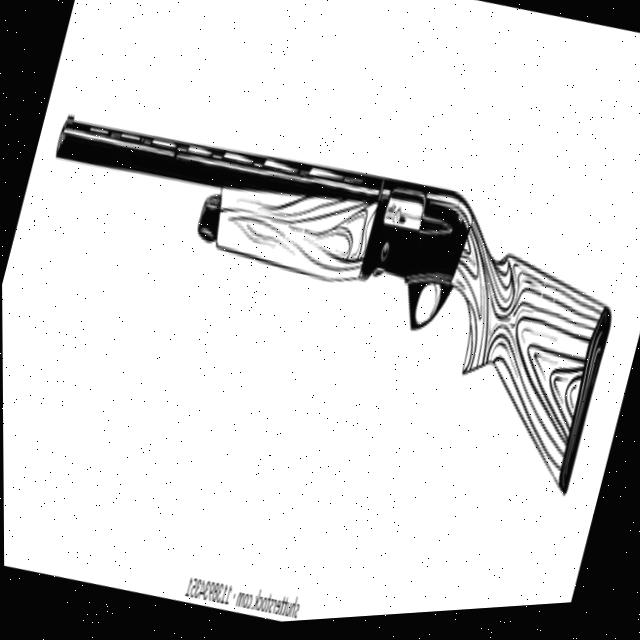firearm: (1, 80, 638, 535)
